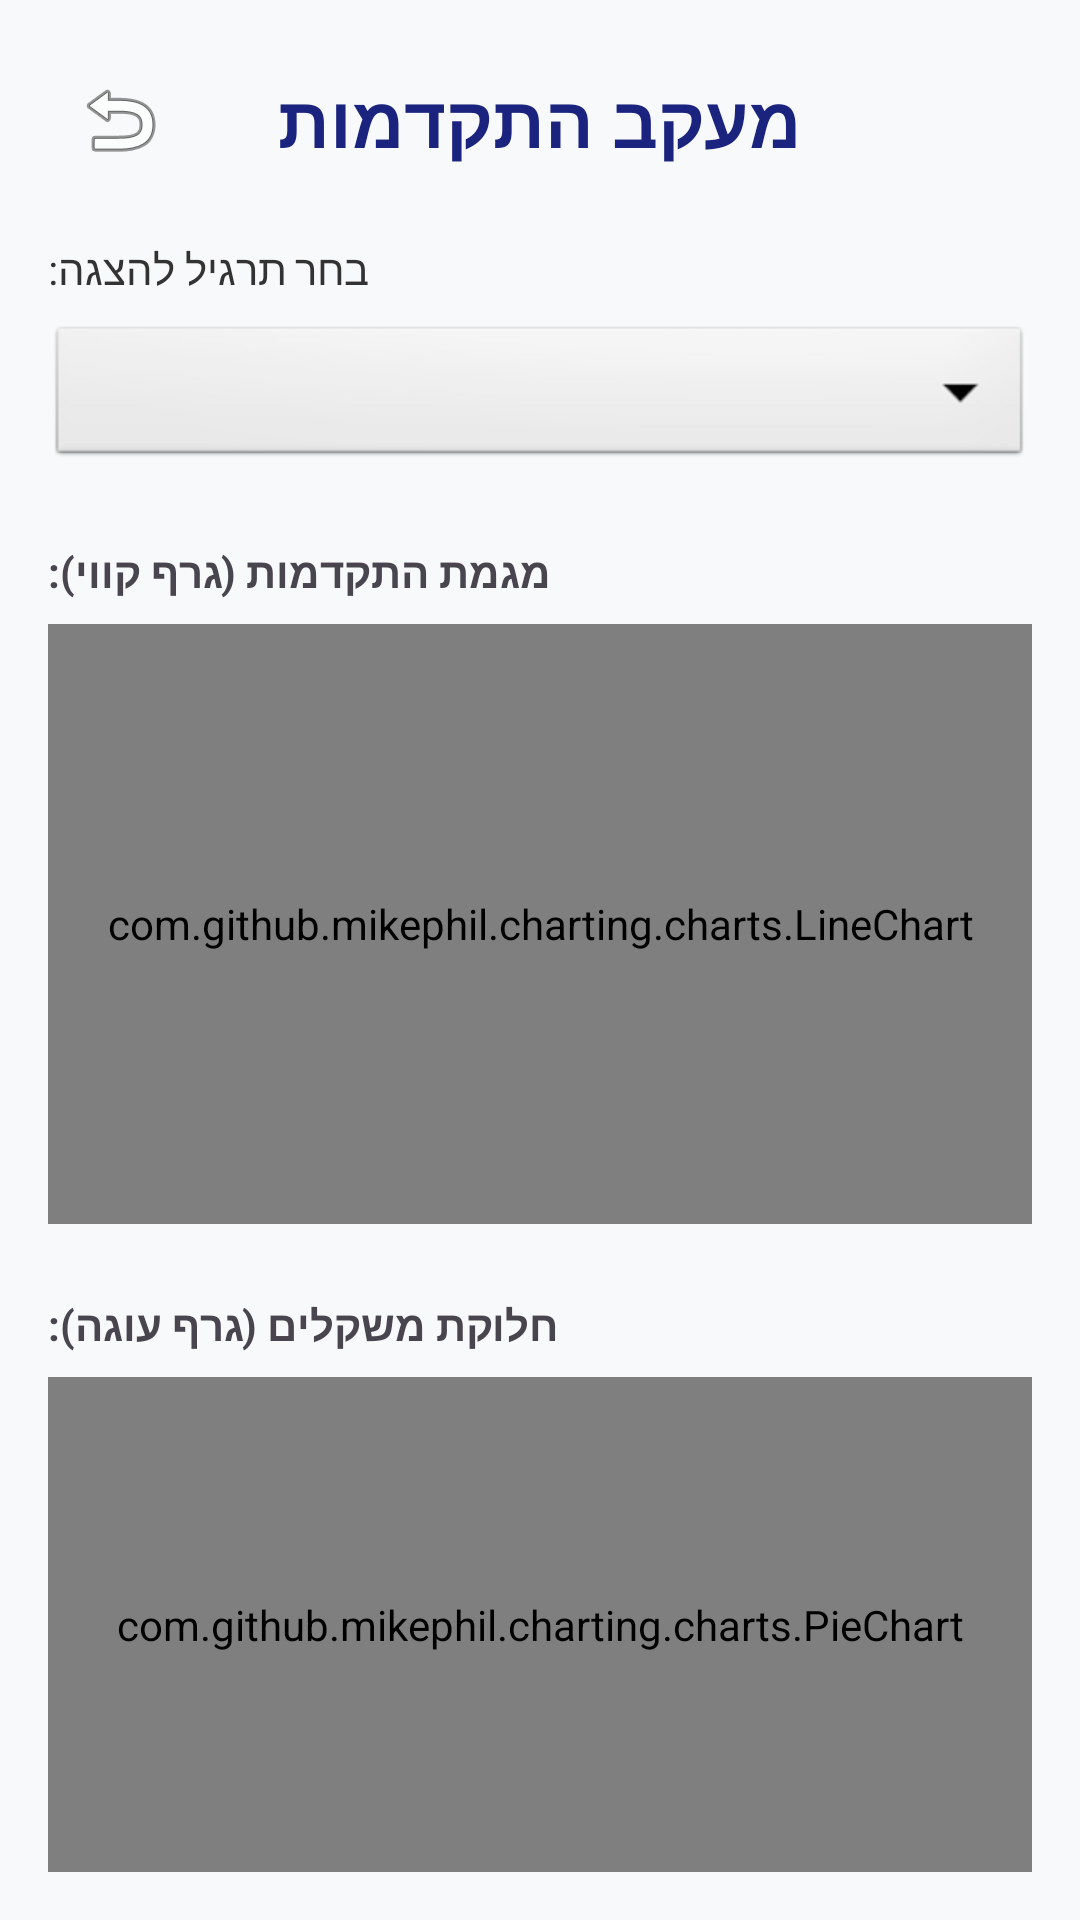

Icon click points for this 1080w x 1920h phone screenshot, format (x=x, y=y):
חזרה: (x=121, y=120)
